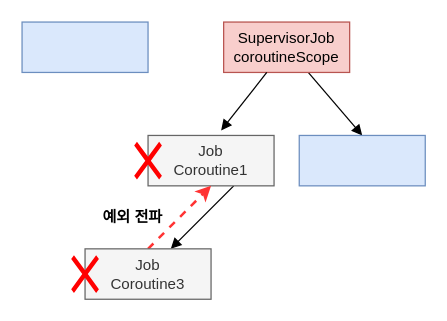
Some shapes in this 447 by 321 pixel diagram are drawn without their labels. Each missing label, with the box of its shape:
Job Coroutine2: (298, 134, 425, 186)
Job runBlocking: (21, 21, 148, 72)
